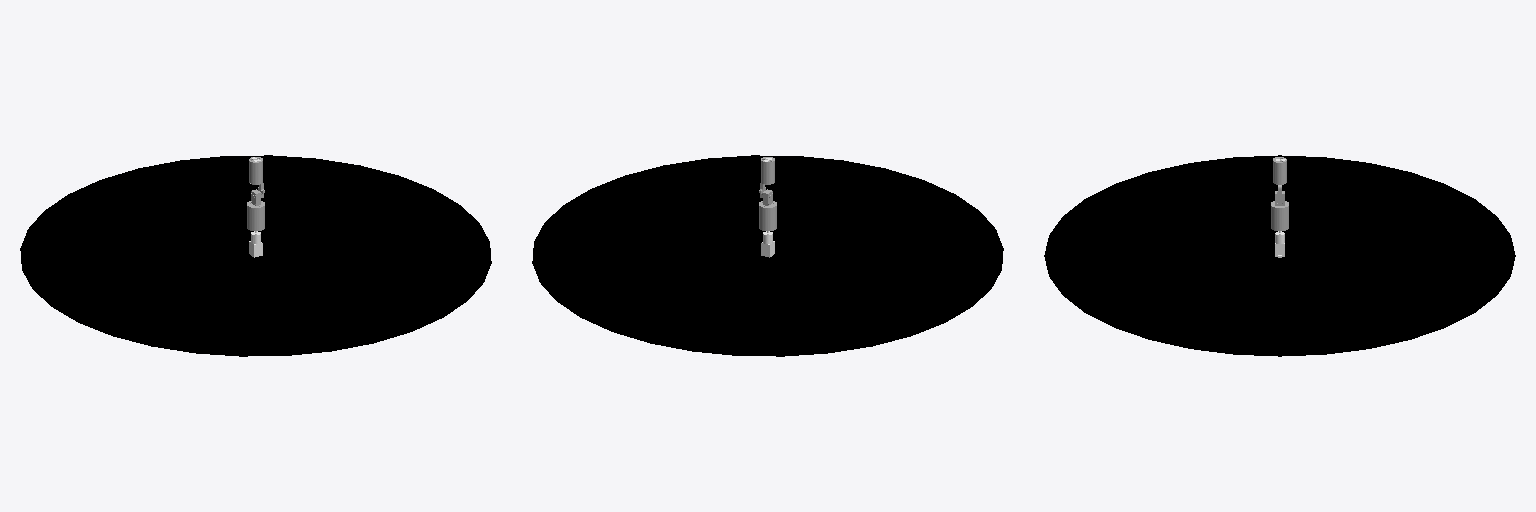
robot.urdf — arm_v2:
<?xml version="1.0" encoding="utf-8"?>
<!-- This URDF was automatically created by SolidWorks to URDF Exporter! Originally created by Stephen Brawner ([email redacted]) 
     Commit Version: 1.5.1-0-g916b5db  Build Version: 1.5.7152.31018
     For more information, please see http://wiki.ros.org/sw_urdf_exporter -->
<robot
  name="arm_v2">
  <link
    name="bed_link">
    <inertial>
      <origin
        xyz="0 0 0.005"
        rpy="0 0 0" />
      <mass
        value="30" />
      <inertia
        ixx="0.75"
        ixy="0.0"
        ixz="0.0"
        iyy="0.75"
        iyz="0.0"
        izz="1.5" />
    </inertial>
    <visual>
      <origin
        xyz="0 0 0.005"
        rpy="0 0 0" />
      <geometry>
        <cylinder length="0.01" radius="1"/>
      </geometry>
      <material name="black">
        <color
          rgba="0 0 0 1" />
      </material>
    </visual>
    <collision>
      <origin
        xyz="0 0 0.005"
        rpy="0 0 0" />
      <geometry>
        <cylinder length="0.01" radius="1"/>
      </geometry>
    </collision>
  </link>
  <link
    name="base_link">
    <inertial>
      <origin
        xyz="0.00026487 -3.4694E-18 0.048236"
        rpy="0 0 0" />
      <mass
        value="0.16687" />
      <inertia
        ixx="0.00016933"
        ixy="-9.648E-22"
        ixz="1.911E-06"
        iyy="0.00017044"
        iyz="-2.9511E-21"
        izz="4.4833E-05" />
    </inertial>
    <visual>
      <origin
        xyz="0 0 0"
        rpy="0 0 0" />
      <geometry>
        <mesh
          filename="package://arm_v2/meshes/base_link.STL" />
      </geometry>
      <material
        name="">
        <color
          rgba="1 1 1 1" />
      </material>
    </visual>
    <collision>
      <origin
        xyz="0 0 0"
        rpy="0 0 0" />
      <geometry>
        <mesh
          filename="package://arm_v2/meshes/base_link.STL" />
      </geometry>
    </collision>
  </link>
  <joint
    name="base_link_joint"
    type="fixed">
    <origin
      xyz="0 0 0.01"
      rpy="0 0 0" />
    <parent
      link="bed_link" />
    <child
      link="base_link" />
    <axis
      xyz="0 0 1" />
  </joint>
  <link
    name="yaw_arm">
    <inertial>
      <origin
        xyz="-0.00068269 7.6959E-05 0.073111"
        rpy="0 0 0" />
      <mass
        value="0.22991" />
      <inertia
        ixx="0.00041715"
        ixy="3.0856E-07"
        ixz="-1.8368E-06"
        iyy="0.00041793"
        iyz="1.2451E-06"
        izz="0.00018043" />
    </inertial>
    <visual>
      <origin
        xyz="0 0 0"
        rpy="0 0 0" />
      <geometry>
        <mesh
          filename="package://arm_v2/meshes/yaw_arm.STL" />
      </geometry>
      <material
        name="">
        <color
          rgba="0.75294 0.75294 0.75294 1" />
      </material>
    </visual>
    <collision>
      <origin
        xyz="0 0 0"
        rpy="0 0 0" />
      <geometry>
        <mesh
          filename="package://arm_v2/meshes/yaw_arm.STL" />
      </geometry>
    </collision>
  </link>
  <joint
    name="yaw_joint"
    type="continuous">
    <origin
      xyz="0 0 0.129"
      rpy="0 0 0" />
    <parent
      link="base_link" />
    <child
      link="yaw_arm" />
    <axis
      xyz="0 0 1" />
    <limit
      lower="-3.141"
      upper="3.141"
      effort="100"
      velocity="1.5" />
  </joint>
  <link
    name="pitch_arm">
    <inertial>
      <origin
        xyz="-0.0032342 -0.0056143 0.10098"
        rpy="0 0 0" />
      <mass
        value="0.13457" />
      <inertia
        ixx="0.00029792"
        ixy="-1.3158E-06"
        ixz="-4.6406E-05"
        iyy="0.0003147"
        iyz="-5.1548E-07"
        izz="7.6539E-05" />
    </inertial>
    <visual>
      <origin
        xyz="0 0 0"
        rpy="0 0 0" />
      <geometry>
        <mesh
          filename="package://arm_v2/meshes/pitch_arm.STL" />
      </geometry>
      <material
        name="">
        <color
          rgba="0.75294 0.75294 0.75294 1" />
      </material>
    </visual>
    <collision>
      <origin
        xyz="0 0 0"
        rpy="0 0 0" />
      <geometry>
        <mesh
          filename="package://arm_v2/meshes/pitch_arm.STL" />
      </geometry>
    </collision>
  </link>
  <joint
    name="pitch_joint"
    type="continuous">
    <origin
      xyz="0 0 0.1465"
      rpy="-0.0060785 -0.0015341 2.892" />
    <parent
      link="yaw_arm" />
    <child
      link="pitch_arm" />
    <axis
      xyz="-0.9696 -0.24471 0" />
    <limit
      lower="-2.356"
      upper="2.356"
      effort="100"
      velocity="1.5" />
  </joint>
  <link
    name="laser_sensor">
    <inertial>
      <origin
        xyz="-0.020766 -0.00032327 -0.00062907"
        rpy="0 0 0" />
      <mass
        value="0.023908" />
      <inertia
        ixx="3.1326E-06"
        ixy="-1.1637E-07"
        ixz="-1.6438E-07"
        iyy="3.6937E-06"
        iyz="3.9003E-08"
        izz="5.6413E-06" />
    </inertial>
    <visual>
      <origin
        xyz="0 0 0"
        rpy="0 0 0" />
      <geometry>
        <mesh
          filename="package://arm_v2/meshes/laser_sensor.STL" />
      </geometry>
      <material
        name="">
        <color
          rgba="1 1 1 1" />
      </material>
    </visual>
    <collision>
      <origin
        xyz="0 0 0"
        rpy="0 0 0" />
      <geometry>
        <mesh
          filename="package://arm_v2/meshes/laser_sensor.STL" />
      </geometry>
    </collision>
  </link>
  <joint
    name="laser_joint"
    type="fixed">
    <origin
      xyz="-0.0022636 0.0089688 0.17"
      rpy="1.818 -1.5708 0" />
    <parent
      link="pitch_arm" />
    <child
      link="laser_sensor" />
    <axis
      xyz="0 0 0" />
  </joint>
  <link
    name="camera">
    <inertial>
      <origin
        xyz="-0.039 -3.4694E-16 -9.4629E-16"
        rpy="0 0 0" />
      <mass
        value="0.024504" />
      <inertia
        ixx="1.2252E-06"
        ixy="-3.4249E-21"
        ixz="1.4163E-20"
        iyy="1.3036E-05"
        iyz="-3.3008E-24"
        izz="1.3036E-05" />
    </inertial>
    <visual>
      <origin
        xyz="0 0 0"
        rpy="0 0 0" />
      <geometry>
        <mesh
          filename="package://arm_v2/meshes/camera.STL" />
      </geometry>
      <material
        name="">
        <color
          rgba="1 1 1 1" />
      </material>
    </visual>
    <collision>
      <origin
        xyz="0 0 0"
        rpy="0 0 0" />
      <geometry>
        <mesh
          filename="package://arm_v2/meshes/camera.STL" />
      </geometry>
    </collision>
  </link>
  <joint
    name="camera_joint"
    type="fixed">
    <origin
      xyz="0.0036707 -0.014544 0.17"
      rpy="1.8204 -1.5708 0" />
    <parent
      link="pitch_arm" />
    <child
      link="camera" />
    <axis
      xyz="0 0 0" />
  </joint>
  
  <!-- Gazebo Specified Parameters (Color, Gravity, Fraction etc.)-->
  <gazebo reference="bed_link">
  	<material>Gazebo/DarkGrey</material>
  	<mu1>0.3</mu1>
  	<mu2>0.3</mu2>
  </gazebo>
  <gazebo reference="base_link">
  	<material>Gazebo/DarkGrey</material>
  	<mu1>0.3</mu1>
  	<mu2>0.3</mu2>
  </gazebo>
  <gazebo reference="yaw_arm">
  	<material>Gazebo/Grey</material>
  </gazebo>
  <gazebo reference="pitch_arm">
  	<material>Gazebo/Grey</material>
  </gazebo>
  <gazebo reference="laser_sensor">
  	<material>Gazebo/Black</material>
  </gazebo>
  <gazebo reference="camera">
  	<material>Gazebo/Black</material>
  </gazebo>
  
  
  <!-- Define Transmission Relationships -->
  <transmission name="yaw_joint_trans">
  	<type>transmission_interface/SimpleTransmission</type>
  	<joint name="yaw_joint">
  		<hardwareInterface>hardware_interface/PositionJointInterface</hardwareInterface>
  	</joint>
  	<actuator name="yaw_joint_Motor">
  		<hardwareInterface>hardware_interface/PositionJointInterface</hardwareInterface>
  		<mechanicalReduction>1</mechanicalReduction>
  	</actuator>
  </transmission>
  
  <transmission name="pitch_joint_trans">
  	<type>transmission_interface/SimpleTransmission</type>
  	<joint name="pitch_joint">
  		<hardwareInterface>hardware_interface/PositionJointInterface</hardwareInterface>
  	</joint>
  	<actuator name="pitch_joint_Motor">
  		<hardwareInterface>hardware_interface/PositionJointInterface</hardwareInterface>
  		<mechanicalReduction>1</mechanicalReduction>
  	</actuator>
  </transmission>
  
	<gazebo>
		<plugin name="gazebo_ros_control" filename="libgazebo_ros_control.so">
			<robotNamespace>/arm_v2</robotNamespace>
			<robotSimType>gazebo_ros_control/DefaultRobotHWSim</robotSimType>
		</plugin>
	</gazebo>
  
  <!-- Define Sensors -->
	<gazebo reference="camera">
		<sensor type="camera" name="camera_node">
			<update_rate>30.0</update_rate>
			<camera name="head">
				<horizontal_fov>1.7453</horizontal_fov>
				<image>
					<width>1280</width>
					<height>720</height>
					<format>R8G8B8</format>
				</image>
				<clip>
					<near>0.02</near>
					<far>300</far>
				</clip>
				<noise>
					<type>gaussian</type>
					<mean>0.0</mean>
					<stddev>0.007</stddev>
				</noise>
			</camera>
			<plugin name="gazebo_camera" filename="libgazebo_ros_camera.so">
				<alwaysOn>true</alwaysOn>
				<updateRate>0.0</updateRate>
				<cameraName>/camera</cameraName>
				<imageTopicName>image_raw</imageTopicName>
				<cameraInfoTopicName>camera_info</cameraInfoTopicName>
				<frameName>camera_link</frameName>
				<hackBaseline>0.07</hackBaseline>
				<distortionK1>0.0</distortionK1>
				<distortionK2>0.0</distortionK2>
				<distortionK3>0.0</distortionK3>
				<distortionT1>0.0</distortionT1>
				<distortionT2>0.0</distortionT2>
			</plugin>
		</sensor>
	</gazebo>
	
	<gazebo reference="laser_sensor">
		<sensor type="ray" name="blocklidar">
			<pose>0 0 0 0 0 0</pose>
			<visualize>false</visualize>
			<update_rate>20</update_rate>
			<always_on>true</always_on>
			<ray>
				<scan display="true">
					<horizontal>
						<samples>9</samples>
						<resolution>1.0</resolution>
						<min_angle>-0.1</min_angle>
						<max_angle>0.1</max_angle>
					</horizontal>
					<vertical>
						<samples>9</samples>
						<resolution>1.0</resolution>
						<min_angle>-0.1</min_angle>
						<max_angle>0.1</max_angle>
					</vertical>
				</scan>
				<range>
					<min>0.05</min>
					<max>80.0</max>
				</range>
			</ray>
			<plugin name="gazebo_blocklidar" filename="libgazebo_ros_block_laser.so">
				<topicName>/blocklaser_scan</topicName>
				<frameName>laser_sensor</frameName>
				<gaussianNoise>0.01</gaussianNoise>
				<alwaysOn>true</alwaysOn>
				<updateRate>20</updateRate>
			</plugin>
		</sensor>
		
		<!--gravity>true</gravity>
		<sensor name="imu_sensor" type="imu">
			<pose>0 0 0 0 0 0</pose>
			<visualize>false</visualize>
			<update_rate>100</update_rate>
			<always_on>true</always_on>
			<topic>imu</topic>
			<plugin filename="libgazebo_ros_imu_sensor.so" name="imu_plugin">
				<topicName>imu</topicName>
				<bodyName>laser_sensor</bodyName>
				<updateRateHZ>100</updateRateHZ>
				<gaussianNoise>0.01</gaussianNoise>
				<xyzOffset>0 0 0</xyzOffset>
				<rpyOffset>0 0 0</rpyOffset>
				<frameName>laser_sensor</frameName>
			</plugin>
		</sensor-->
	</gazebo>
  
</robot>

--- Render facts (derived) ---
3 views of the same robot in one strip: view 1: azimuth 30°, elevation 25°; view 2: azimuth 150°, elevation 25°; view 3: azimuth 270°, elevation 25° (orthographic).
Robot: arm_v2 — 6 links, 5 joints (2 continuous, 3 fixed); root link bed_link; default pose: all joints at 0.
Visible links, largest first — view 1: bed_link, yaw_arm; view 2: bed_link, yaw_arm; view 3: bed_link, yaw_arm.
Boxes of the visible links, x1,y1,x2,y2 form: bed_link: [20, 155, 491, 356]; yaw_arm: [247, 189, 264, 230]; bed_link: [532, 155, 1003, 356]; yaw_arm: [759, 189, 776, 230]; bed_link: [1044, 155, 1515, 356]; yaw_arm: [1271, 191, 1288, 230].
Size in the robot's own frame: 2 by 2 by 0.4557 metres.
5 mesh visuals loaded from 5 distinct referenced files (5 binary STL).
